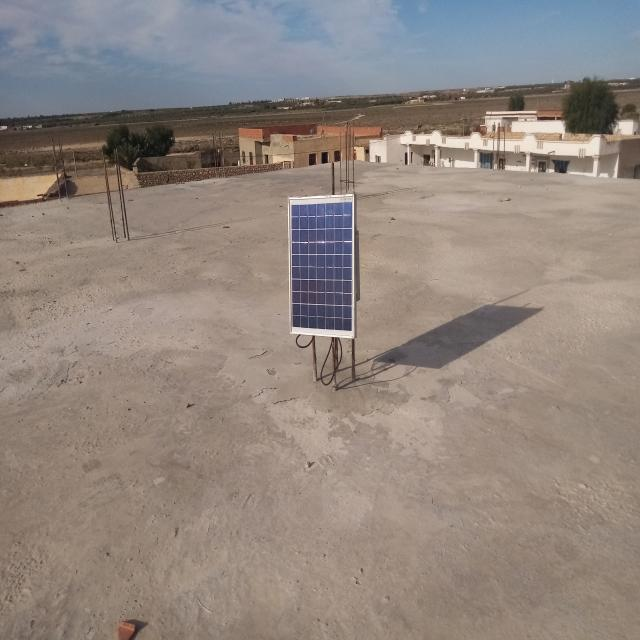Normal Solar Panel: (288, 195, 354, 338)
